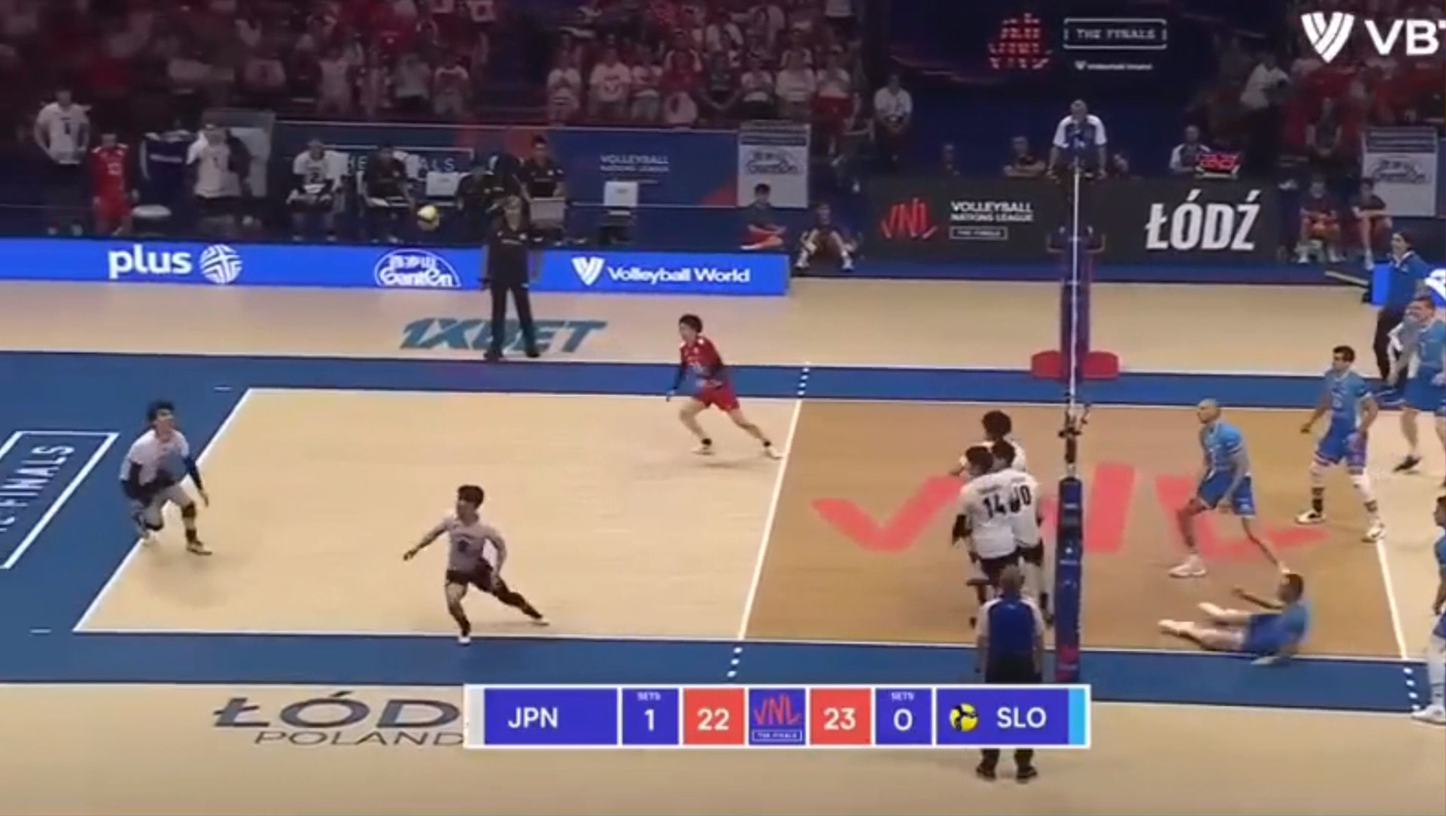ball: (416, 204, 440, 231), (512, 212, 512, 216)
player: (1169, 399, 1287, 578), (1296, 345, 1384, 542), (1157, 570, 1309, 664), (1392, 294, 1445, 471), (1411, 532, 1445, 724), (1434, 496, 1445, 525)
player 1: (403, 484, 546, 644), (668, 314, 779, 457), (119, 400, 210, 555), (952, 445, 1017, 602), (991, 439, 1043, 574), (981, 410, 1027, 469)
referee: (1372, 232, 1429, 400), (482, 197, 539, 360), (1047, 100, 1108, 252), (976, 564, 1044, 682)
